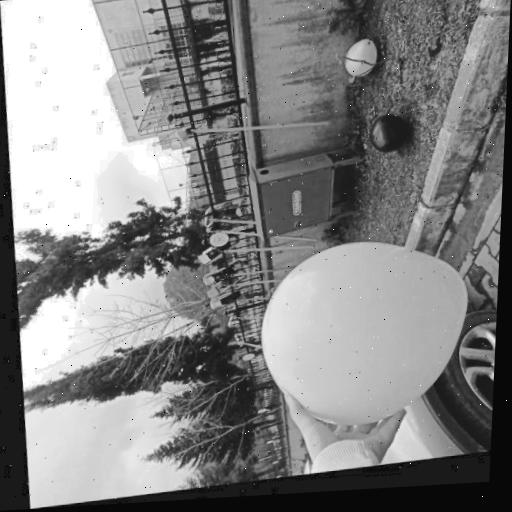balloon: (240, 233, 474, 439), (361, 116, 406, 161), (338, 39, 380, 85)
